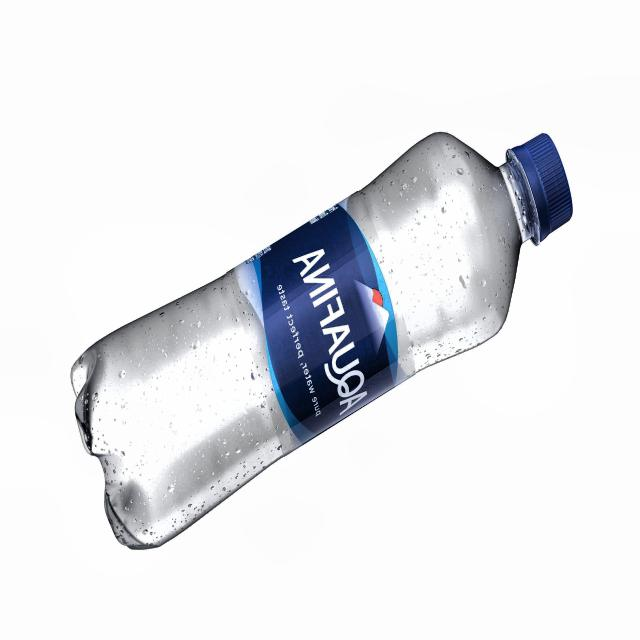Bottles: (38, 118, 596, 557)
